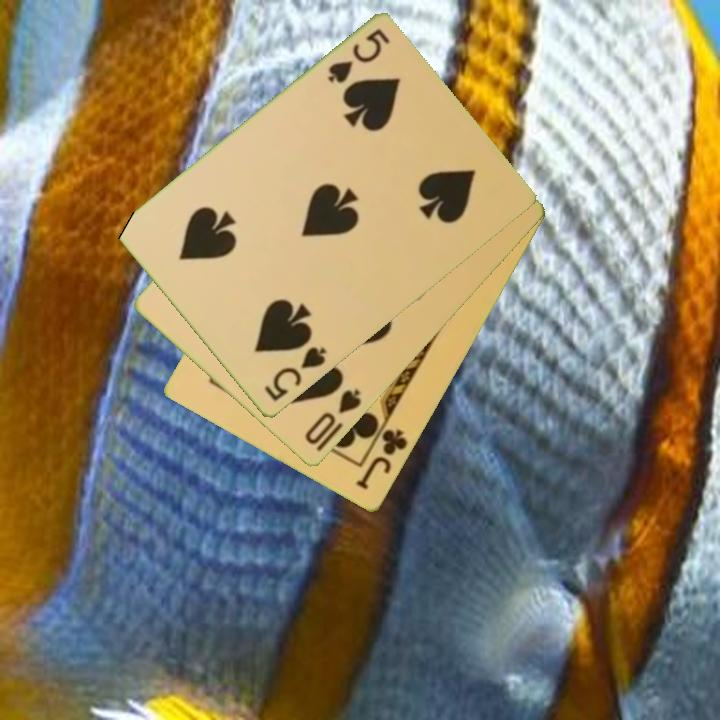10s: (301, 386, 364, 448)
5s: (260, 343, 330, 405), (323, 25, 393, 87)
Jc: (352, 426, 411, 494)
